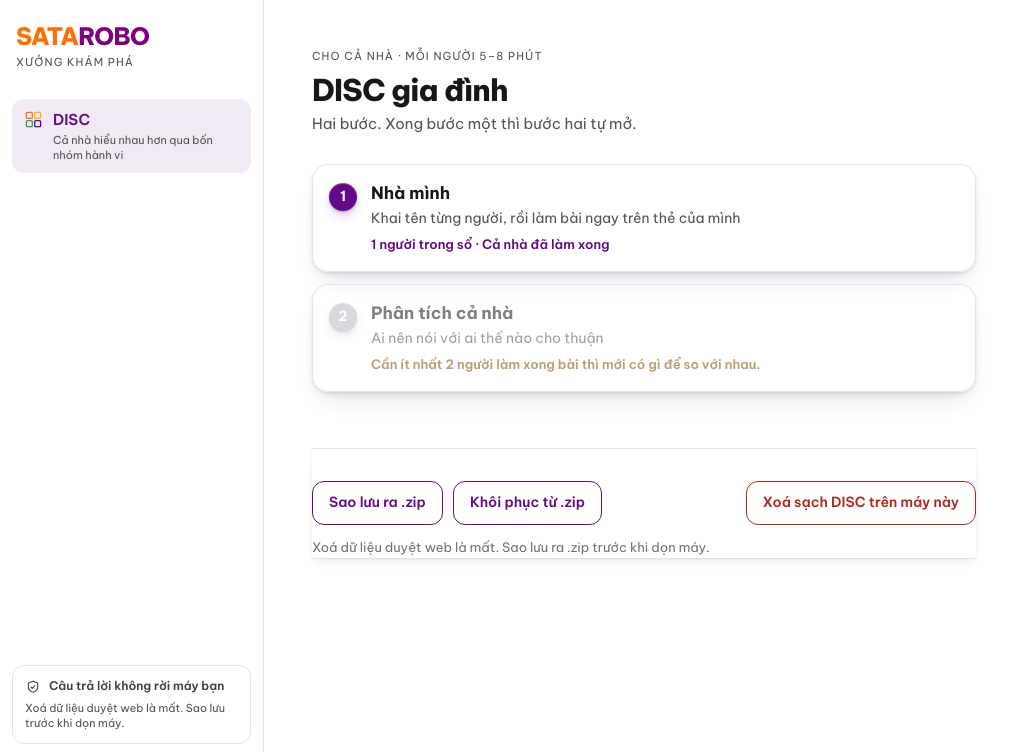
🔴 cửa hạn mức — chạy thật, từ chỗ người dùng thật sự bấm › chưa chạm trần thì đi thẳng, KHÔNG hộp thoại nào
Click the button "Nhà mình".
click(644, 218)  # box [313,164,975,270]
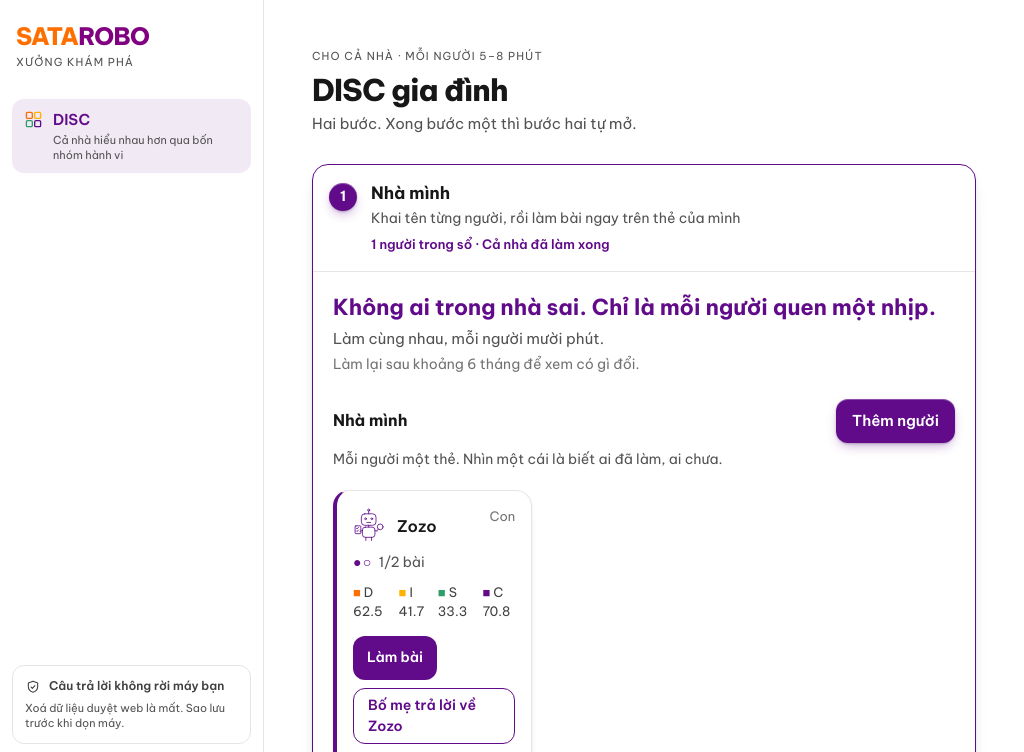
Click the button "Làm bài".
click(395, 658)  # box [353,636,437,680]
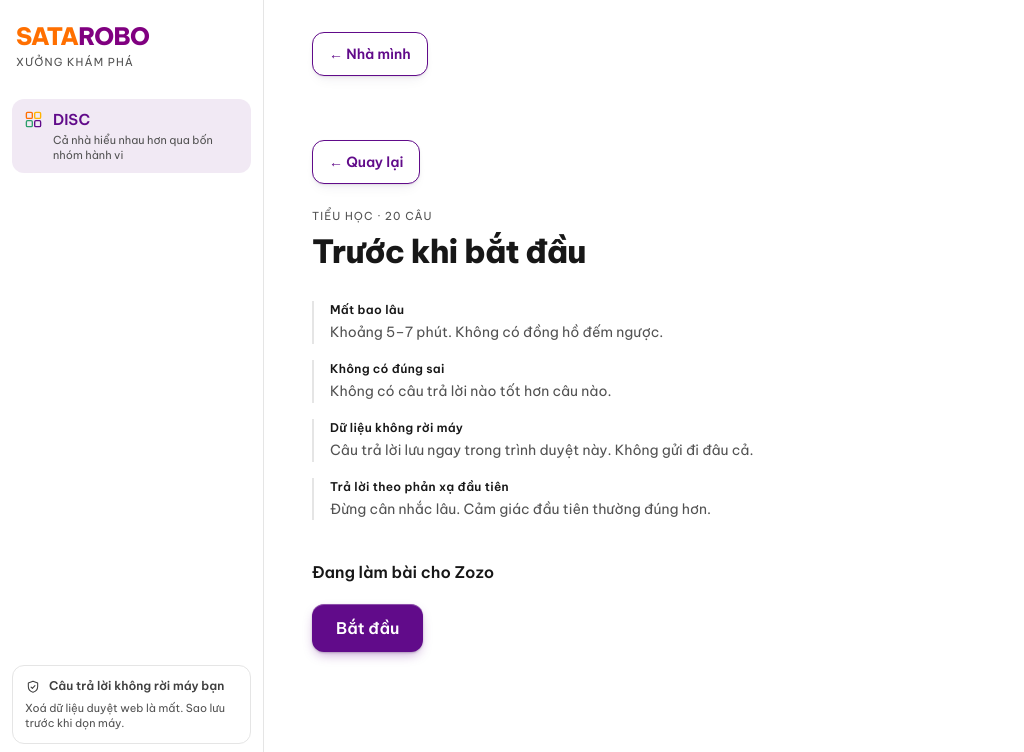
Expected: the element showing "Đang làm bài cho Zozo Bắt đầu" is shown, [312,562,494,652]
